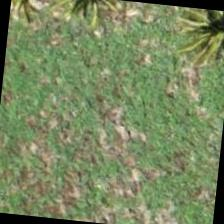Kelapa_Sawit: (168, 6, 223, 80), (7, 0, 68, 44)
